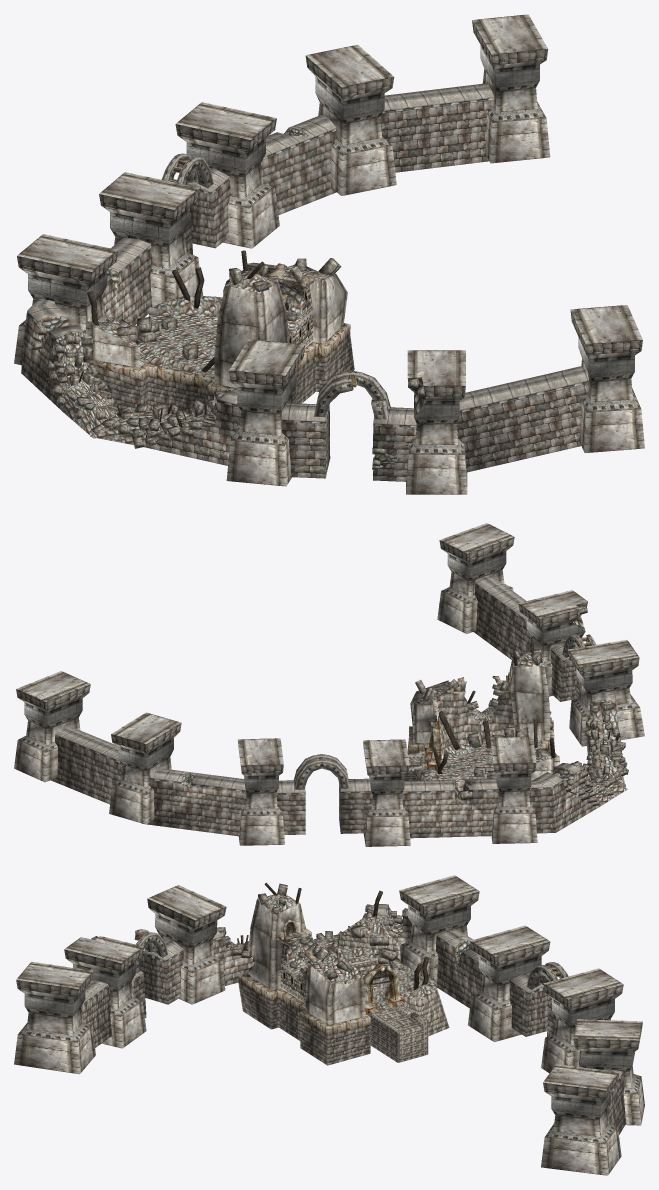
The picture shows the model from 3 angles, top to bottom: view 1: azimuth 30°, elevation 25°; view 2: azimuth 150°, elevation 25°; view 3: azimuth 270°, elevation 25°; orthographic projection. The views are drawn at different scales.
Parts seen in each view (by area): view 1: wall0, wall2, wall1, wall13, wall6, wall8, wall7, wall9; view 2: wall0, wall2, wall1, wall6, wall13, wall7, wall8; view 3: wall0, wall2, wall1, wall6, wall13, wall8, wall9, wall10, wall7.
Boxes of the visible parts, x1=… form: wall0: x1=14, y1=14, x2=644, y2=494; wall2: x1=17, y1=20, x2=642, y2=481; wall1: x1=19, y1=45, x2=640, y2=454; wall13: x1=37, y1=264, x2=335, y2=446; wall6: x1=21, y1=273, x2=354, y2=465; wall8: x1=88, y1=263, x2=350, y2=396; wall7: x1=31, y1=250, x2=288, y2=427; wall9: x1=247, y1=262, x2=312, y2=348; wall0: x1=14, y1=523, x2=644, y2=846; wall2: x1=16, y1=537, x2=639, y2=838; wall1: x1=18, y1=551, x2=639, y2=817; wall6: x1=404, y1=683, x2=618, y2=833; wall13: x1=409, y1=652, x2=627, y2=806; wall7: x1=432, y1=638, x2=620, y2=797; wall8: x1=409, y1=675, x2=554, y2=770; wall0: x1=14, y1=875, x2=644, y2=1175; wall2: x1=16, y1=883, x2=642, y2=1134; wall1: x1=18, y1=903, x2=641, y2=1144; wall6: x1=212, y1=917, x2=449, y2=1065; wall13: x1=226, y1=894, x2=437, y2=1024; wall8: x1=238, y1=925, x2=404, y2=1035; wall9: x1=280, y1=923, x2=428, y2=1062; wall10: x1=283, y1=919, x2=400, y2=1007; wall7: x1=237, y1=882, x2=429, y2=990.
Bounding box in the file's own units: 234 × 256 × 59.12.
Materials: 13 (13 with a texture image).
